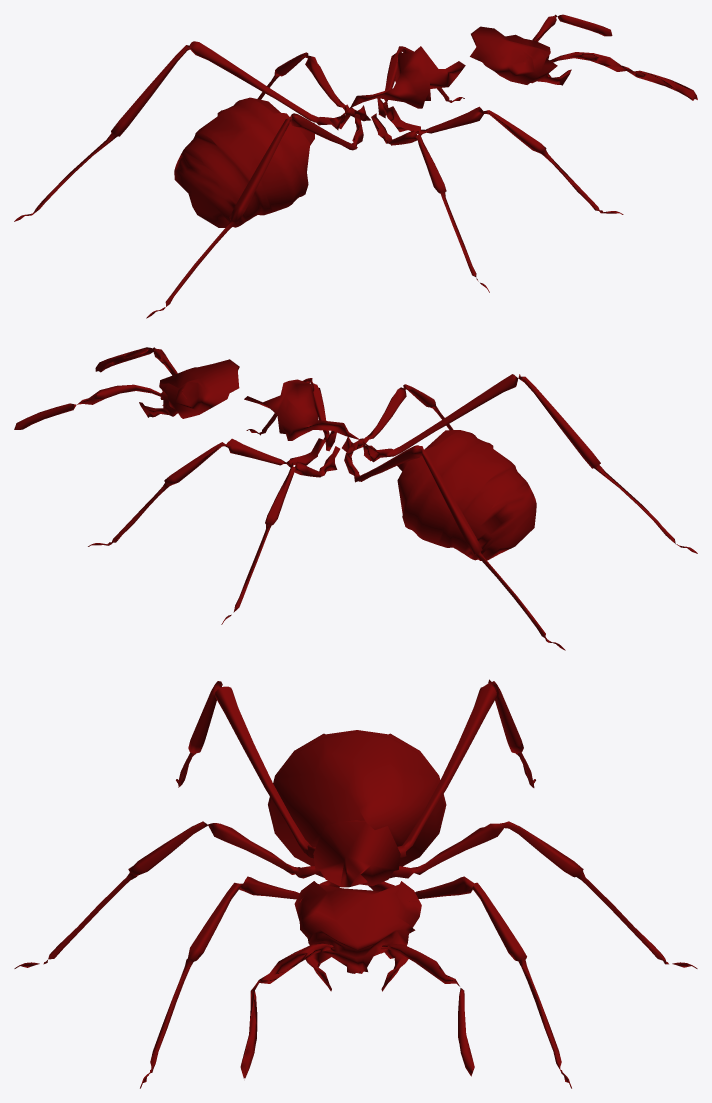
File: ant.fbx
3 views of the same model, one above another, from view 1: azimuth 30°, elevation 25°; view 2: azimuth 150°, elevation 25°; view 3: azimuth 270°, elevation 25° (orthographic). The views are drawn at different scales.
Parts seen in each view (by area): view 1: Mesh; view 2: Mesh; view 3: Mesh.
Boxes of the visible parts, <box> form: Mesh: <box>14,14,697,318</box>; Mesh: <box>14,347,697,650</box>; Mesh: <box>14,679,697,1088</box>.
Bounding box in the file's own units: 0.0229 × 0.00581 × 0.0173.
